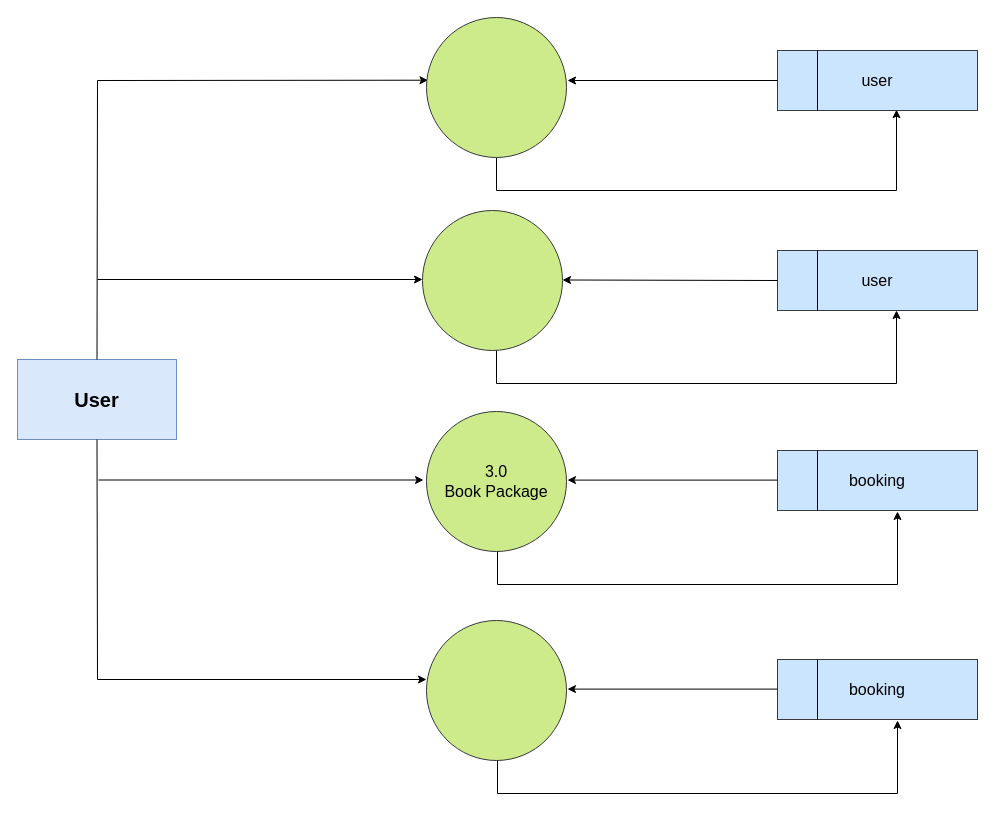
This 995x819 diagram has some shape labels left out. Here are the shapes that lost their labels. From the top down, the centre of each, then its label:
point (496, 87): 1.0 Register
point (492, 280): 2.0 Login
point (496, 690): 4.0 Send Message
